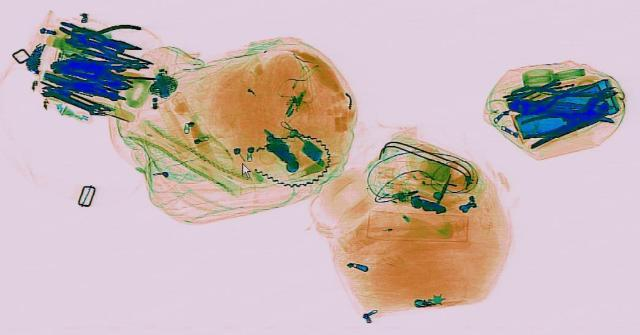Pliers: (529, 80, 631, 122), (60, 21, 150, 63), (510, 104, 608, 139), (59, 25, 147, 57)
Wrench: (36, 84, 104, 115), (502, 75, 568, 103)
